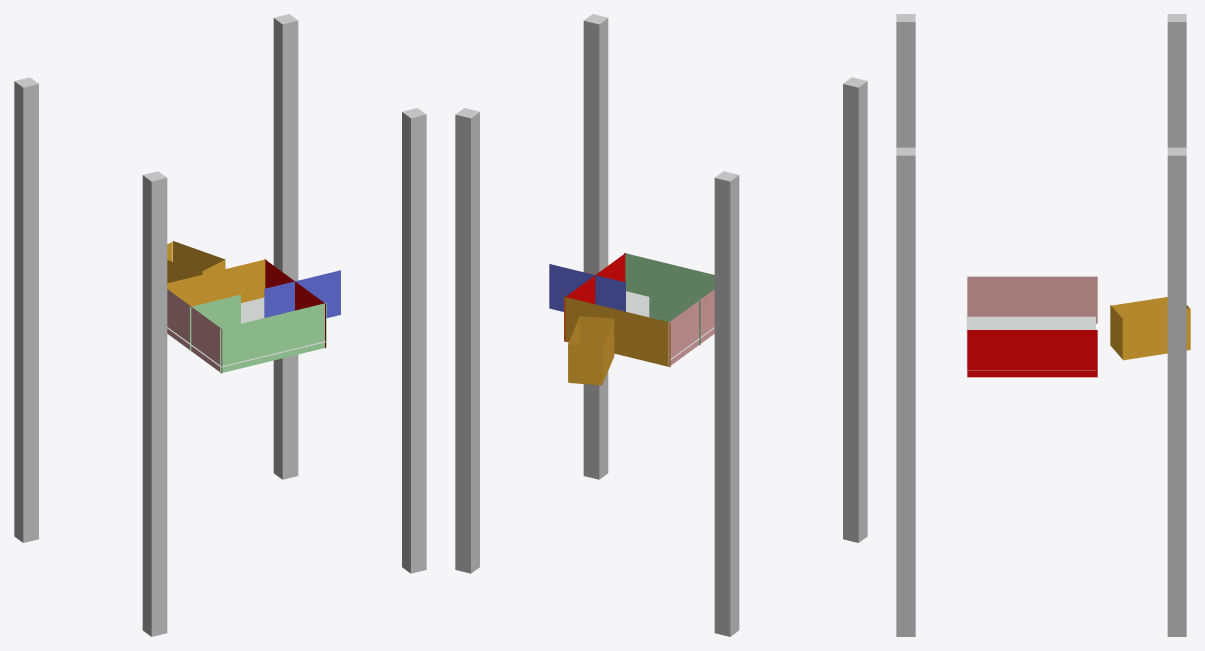
File: baking-probs.gltf
3 views of the same model, side by side, from view 1: azimuth 30°, elevation 25°; view 2: azimuth 150°, elevation 25°; view 3: azimuth 270°, elevation 25° (orthographic). The views are drawn at different scales.
Visible parts, largest first — view 1: pillar SW, pillar SE, pillar NW, pillar NE, east-wall, west--wall, south-wall, north-int-wall, south-int-wall, north-wall, h--wall.001, floor; view 2: pillar NW, pillar NE, pillar SW, pillar SE, west--wall, east-wall, north-int-wall, south-wall, h---wall.004, south-int-wall, north-wall, h---wall.003 (+1 smaller); view 3: pillar SE, pillar NE, north-wall, south-wall, pillar SW, pillar NW, h--wall.001, floor, h---wall.002, h---wall.003.
Boxes of the visible parts, <box> form: pillar SW: <box>142,171,167,636</box>; pillar SE: <box>402,108,426,573</box>; pillar NW: <box>14,77,38,542</box>; pillar NE: <box>273,14,298,479</box>; east-wall: <box>220,303,326,373</box>; west--wall: <box>167,259,266,306</box>; south-wall: <box>167,289,222,373</box>; north-int-wall: <box>264,270,340,317</box>; south-int-wall: <box>190,294,240,351</box>; north-wall: <box>264,259,325,348</box>; h--wall.001: <box>173,241,225,272</box>; floor: <box>167,297,326,367</box>; pillar NW: <box>714,171,739,636</box>; pillar NE: <box>455,108,479,573</box>; pillar SW: <box>843,77,867,542</box>; pillar SE: <box>583,14,608,479</box>; west--wall: <box>564,296,670,367</box>; east-wall: <box>624,253,714,300</box>; north-int-wall: <box>549,264,625,311</box>; south-wall: <box>668,289,714,367</box>; h---wall.004: <box>569,344,602,385</box>; south-int-wall: <box>649,288,700,345</box>; north-wall: <box>564,253,625,341</box>; h---wall.003: <box>580,316,614,347</box>; pillar SE: <box>896,147,915,636</box>; pillar NE: <box>1167,147,1186,636</box>; north-wall: <box>967,330,1097,377</box>; south-wall: <box>967,276,1097,323</box>; pillar SW: <box>896,14,915,147</box>; pillar NW: <box>1167,14,1186,147</box>; h--wall.001: <box>1122,308,1190,360</box>; floor: <box>966,316,1095,370</box>; h---wall.002: <box>1111,297,1167,318</box>; h---wall.003: <box>1110,305,1122,358</box>.
Bounding box in the file's own units: 74.24 × 117 × 65.09.
